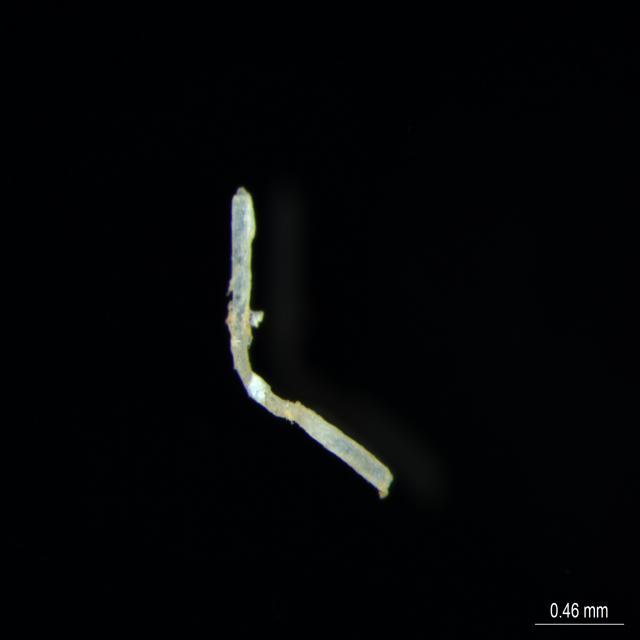fibers: (162, 184, 400, 532)
